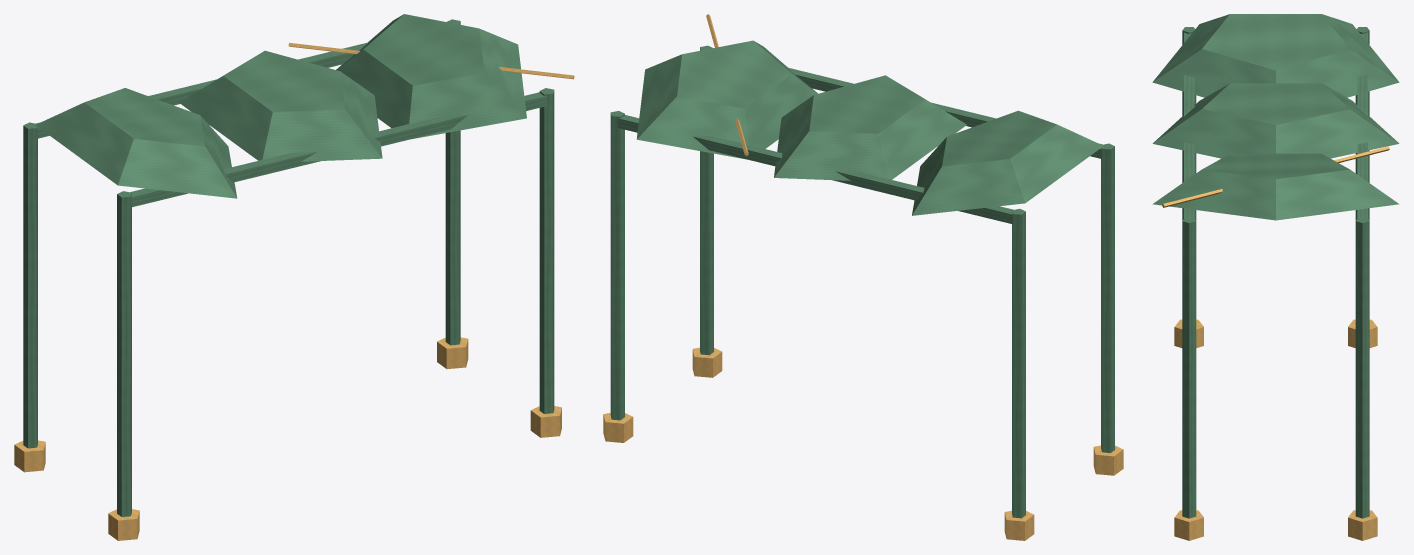
Rendered from atlas100-s001-a08.lod1.glb.
3 renders of one model, left to right at view 1: azimuth 30°, elevation 25°; view 2: azimuth 150°, elevation 25°; view 3: azimuth 270°, elevation 25°, orthographic. The views are drawn at different scales.
Parts seen in each view (by area): view 1: atlas100-s001-a08:part-014, atlas100-s001-a08:part-012, atlas100-s001-a08:part-010, atlas100-s001-a08:part-006, atlas100-s001-a08:part-002, atlas100-s001-a08:part-000, atlas100-s001-a08:part-009, atlas100-s001-a08:part-004, atlas100-s001-a08:part-008, atlas100-s001-a08:part-007, atlas100-s001-a08:part-001, atlas100-s001-a08:part-005 (+2 smaller); view 2: atlas100-s001-a08:part-014, atlas100-s001-a08:part-012, atlas100-s001-a08:part-010, atlas100-s001-a08:part-004, atlas100-s001-a08:part-000, atlas100-s001-a08:part-002, atlas100-s001-a08:part-008, atlas100-s001-a08:part-006, atlas100-s001-a08:part-009, atlas100-s001-a08:part-003, atlas100-s001-a08:part-007, atlas100-s001-a08:part-001 (+1 smaller); view 3: atlas100-s001-a08:part-010, atlas100-s001-a08:part-012, atlas100-s001-a08:part-014, atlas100-s001-a08:part-004, atlas100-s001-a08:part-006, atlas100-s001-a08:part-009, atlas100-s001-a08:part-008, atlas100-s001-a08:part-005, atlas100-s001-a08:part-007, atlas100-s001-a08:part-015, atlas100-s001-a08:part-001, atlas100-s001-a08:part-003 (+2 smaller).
Part boxes in pixels (x1,y1,x2,y2): atlas100-s001-a08:part-014: (336, 14, 526, 139); atlas100-s001-a08:part-012: (179, 50, 382, 161); atlas100-s001-a08:part-010: (35, 88, 237, 198); atlas100-s001-a08:part-006: (539, 88, 554, 413); atlas100-s001-a08:part-002: (117, 191, 131, 516); atlas100-s001-a08:part-000: (23, 122, 37, 448); atlas100-s001-a08:part-009: (130, 92, 547, 207); atlas100-s001-a08:part-004: (445, 19, 460, 345); atlas100-s001-a08:part-008: (36, 42, 368, 138); atlas100-s001-a08:part-007: (530, 406, 561, 437); atlas100-s001-a08:part-001: (14, 440, 45, 472); atlas100-s001-a08:part-005: (437, 337, 468, 369); atlas100-s001-a08:part-014: (636, 40, 817, 159); atlas100-s001-a08:part-012: (774, 75, 966, 180); atlas100-s001-a08:part-010: (912, 110, 1103, 215); atlas100-s001-a08:part-004: (610, 111, 624, 420); atlas100-s001-a08:part-000: (1012, 208, 1025, 518); atlas100-s001-a08:part-002: (1101, 143, 1114, 452); atlas100-s001-a08:part-008: (617, 115, 1013, 224); atlas100-s001-a08:part-006: (700, 45, 713, 355); atlas100-s001-a08:part-009: (787, 67, 1102, 158); atlas100-s001-a08:part-003: (1093, 445, 1123, 475); atlas100-s001-a08:part-007: (692, 347, 722, 377); atlas100-s001-a08:part-001: (1004, 510, 1034, 540); atlas100-s001-a08:part-010: (1152, 14, 1399, 97); atlas100-s001-a08:part-012: (1152, 83, 1399, 158); atlas100-s001-a08:part-014: (1152, 153, 1399, 220); atlas100-s001-a08:part-004: (1355, 217, 1369, 518); atlas100-s001-a08:part-006: (1182, 217, 1196, 518); atlas100-s001-a08:part-009: (1184, 32, 1194, 218); atlas100-s001-a08:part-008: (1357, 32, 1367, 218); atlas100-s001-a08:part-005: (1348, 510, 1377, 540); atlas100-s001-a08:part-007: (1174, 510, 1203, 540); atlas100-s001-a08:part-015: (1162, 146, 1389, 207); atlas100-s001-a08:part-001: (1348, 319, 1377, 347); atlas100-s001-a08:part-003: (1174, 319, 1203, 347).
Size of the model in its own units: 5.56 by 4.4 by 2.85.
2 materials, 2 textured.
